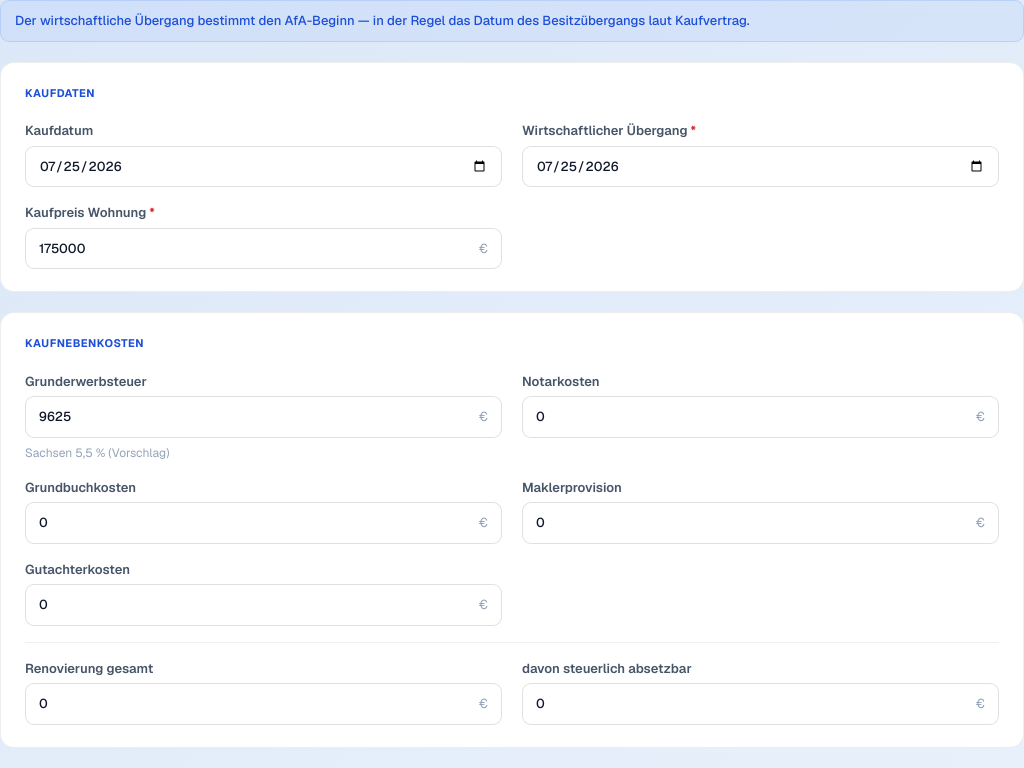
Test case: StepKauf Grunderwerbsteuer suggestion › keeps a saved value equal to the suggestion in an edit form (mode manual)
Expected: the number field labelled "Grunderwerbsteuer €" holds "9625", [26,397,478,436]
Replace the text in the number field labelled "Kaufpreis Wohnung * €" with "200000": (252,248) [26,228,478,268]
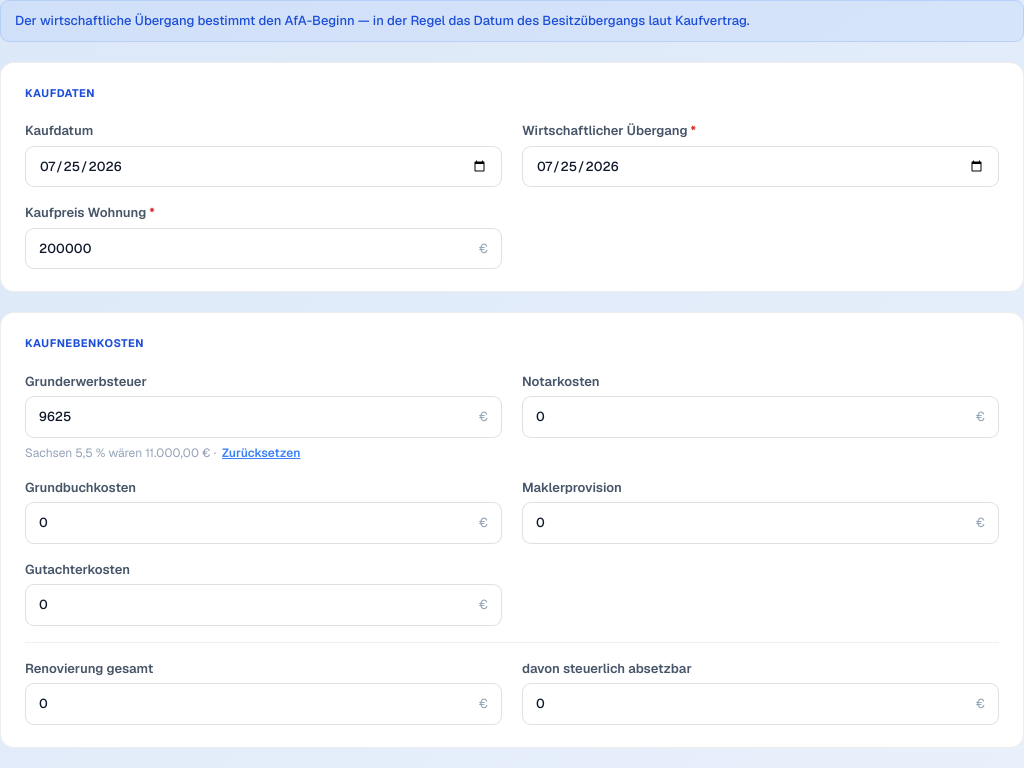
Expected: the number field labelled "Grunderwerbsteuer €" holds "9625", [26,397,478,436]
Result: the button "Zurücksetzen" is shown at [222,444,300,462]
